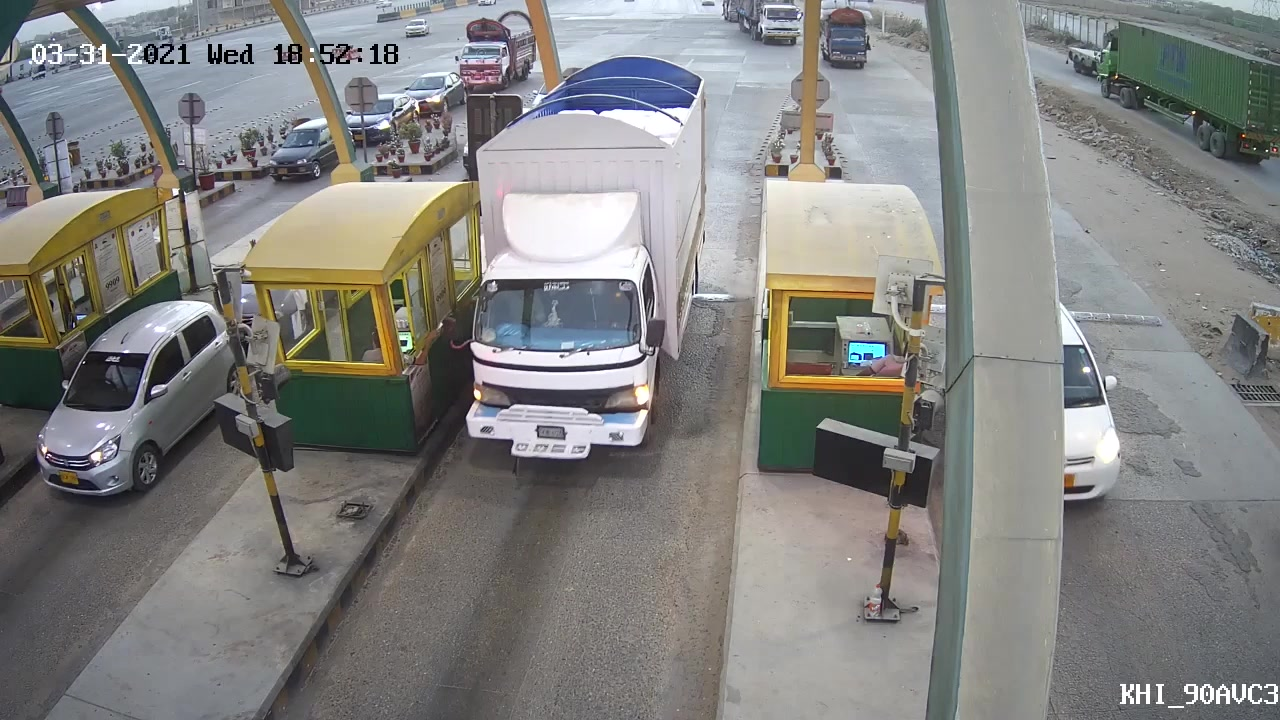F5: (442, 110, 699, 468)
